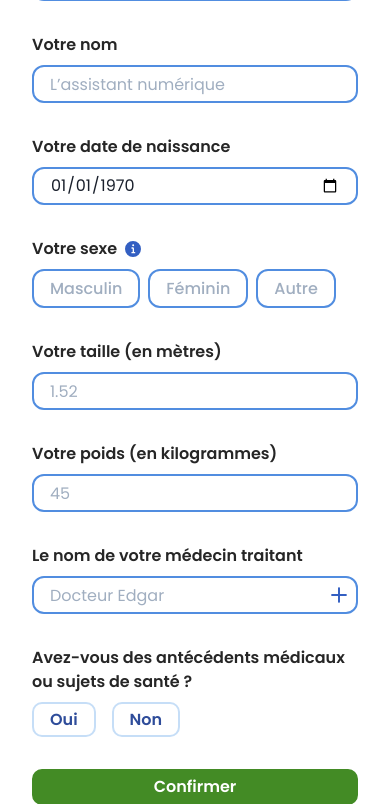
Test: Personal Info Page tests - Mobile › Working page › Error states › Bad weight (too small)
(page scrolled)
Type "1" into the number field with id "edgar-onboardingPersonalPage-formWeight-input". click: (195, 493)
box: [32,474,358,512]
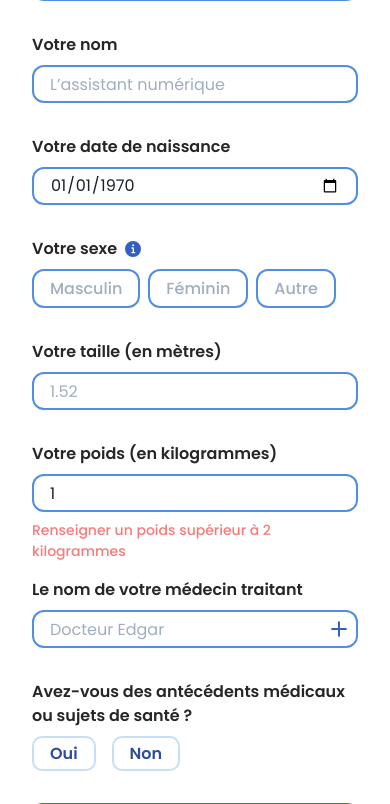
Result: the text with id "edgar-onboardingPersonalPage-formWeightErrorMin-text" reads "Renseigner un poids supérieur à 2 kilogrammes" at [32,520,271,561]
